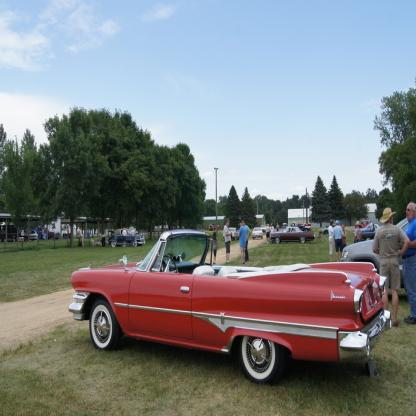Car: (68, 220, 392, 385), (343, 217, 410, 290), (271, 224, 318, 246), (108, 230, 146, 250), (1, 226, 20, 245), (38, 227, 61, 241), (354, 225, 381, 234), (321, 225, 345, 235), (223, 229, 240, 242), (25, 230, 40, 243), (363, 232, 377, 242), (254, 228, 264, 241), (357, 221, 370, 228), (261, 226, 267, 232)
